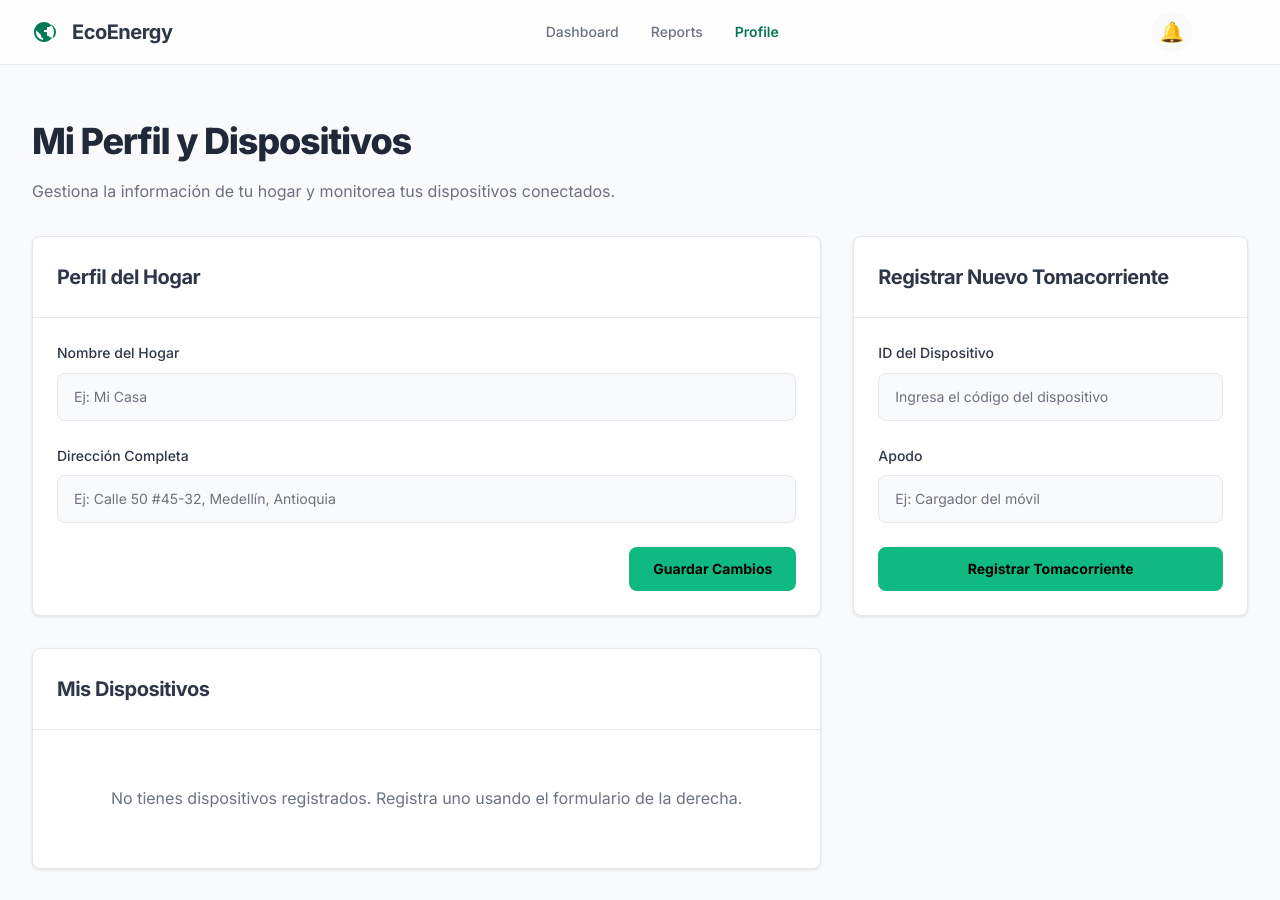
Test: Registrar tomacorriente - handleDeviceRegister › agrega el dispositivo y limpia el formulario cuando el registro es exitoso
Expected: the heading "Registrar Nuevo Tomacorriente" is shown, [878,265,1169,289]
Type "ABC-123" into the field with placeholder "Ingresa el código del dispositivo" at (1051, 397), box [878,373,1223,421]
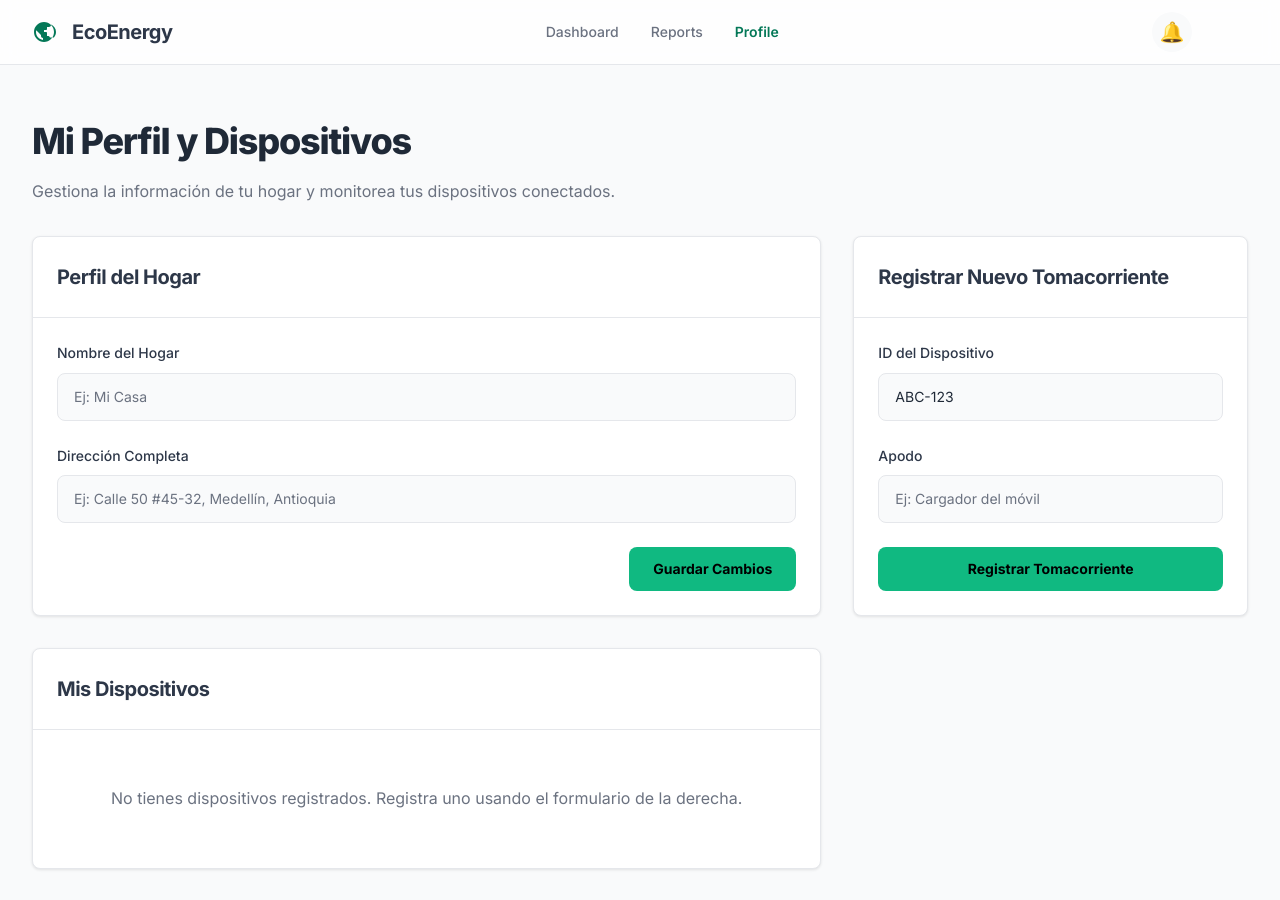
Type "Patio" into the field with placeholder "Ej: Cargador del móvil" at (1051, 499), box [878,475,1223,523]
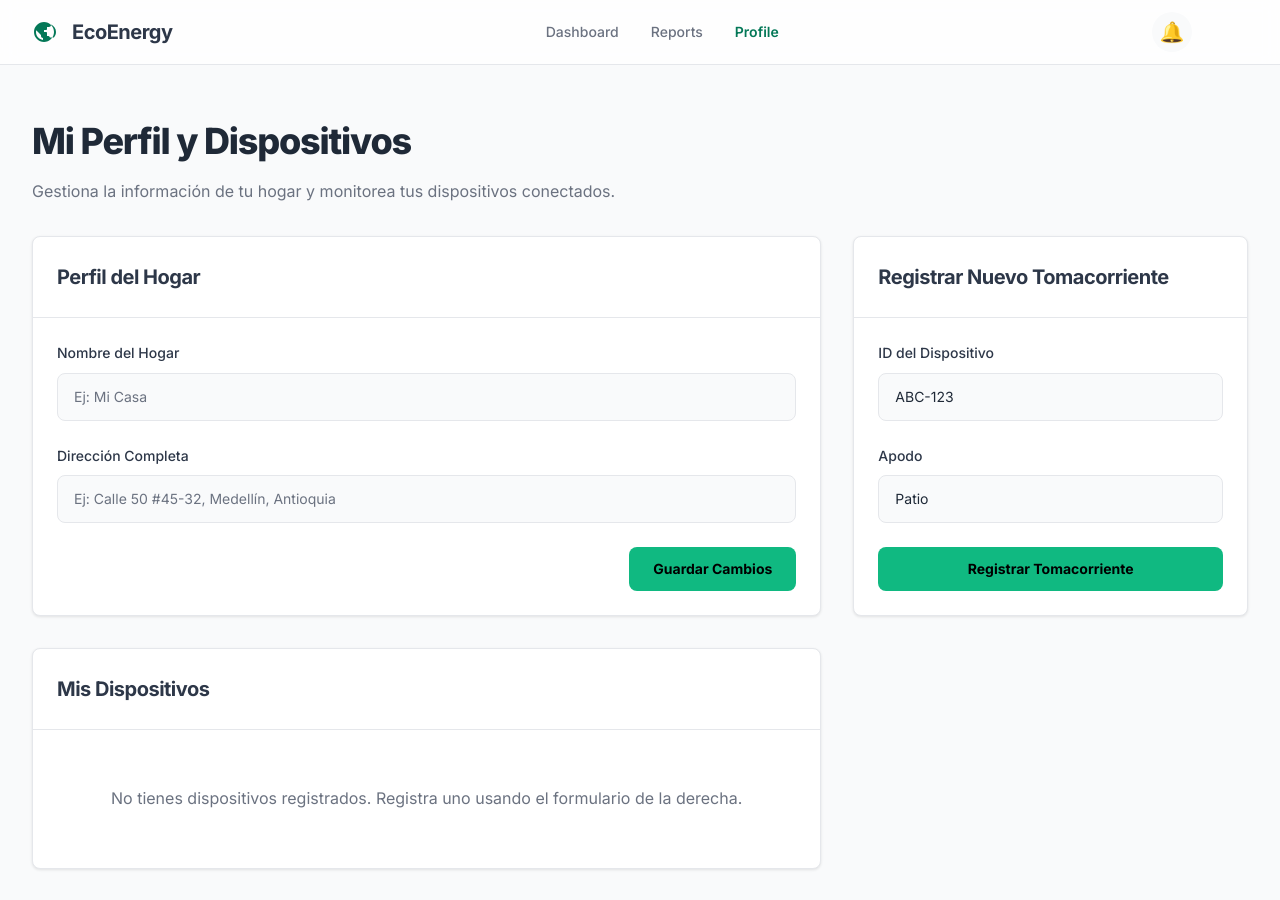
Submit the text "ID del Dispositivo Apodo Registrar Tomacorriente", box [878,342,1223,591]
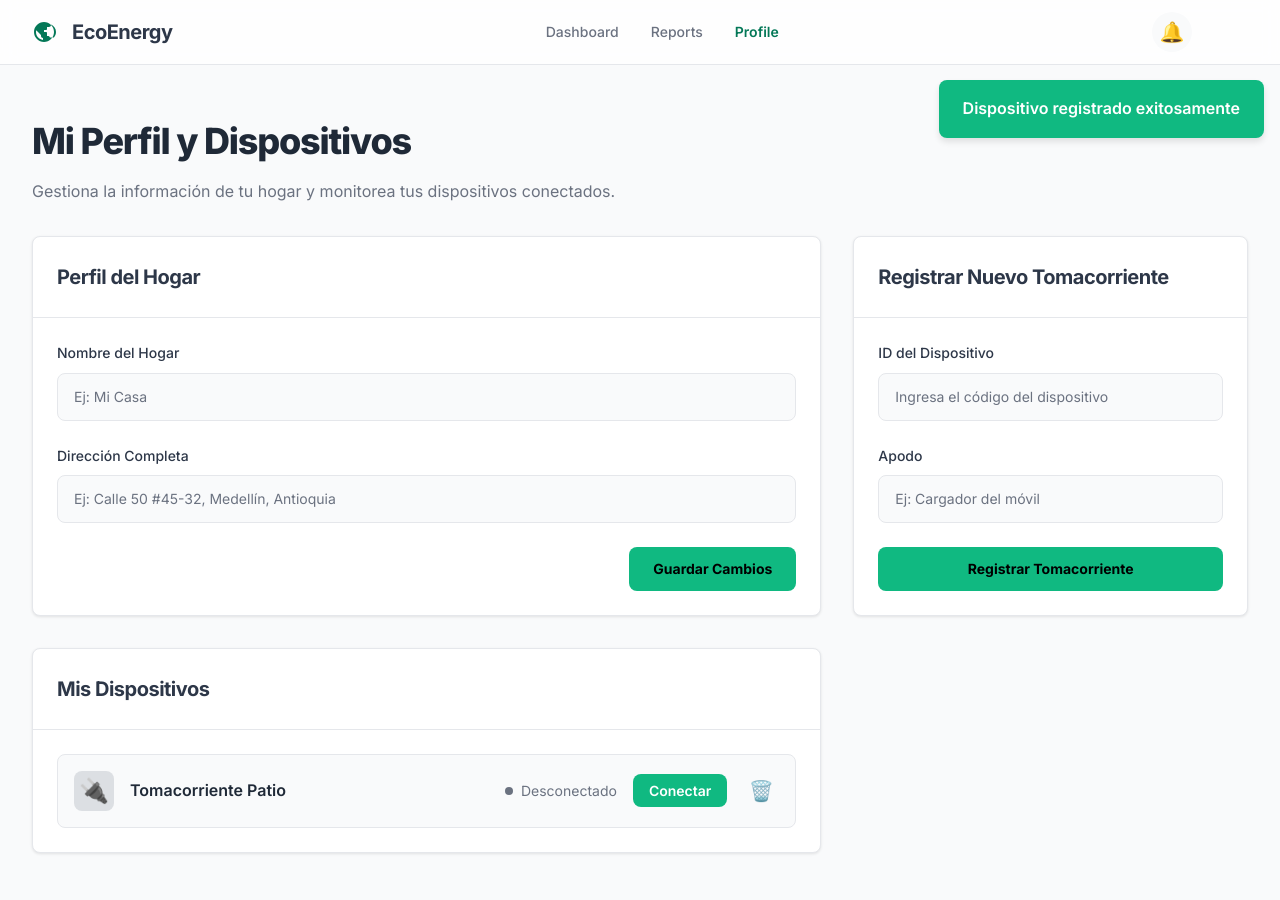
Expected: the text "Dispositivo registrado exitosamente" is shown, [939,80,1264,138]
Expected: the field showing "Tomacorriente Patio" is shown, [130,780,489,800]
Expected: the field with placeholder "Ingresa el código del dispositivo" is empty, [878,373,1223,421]
